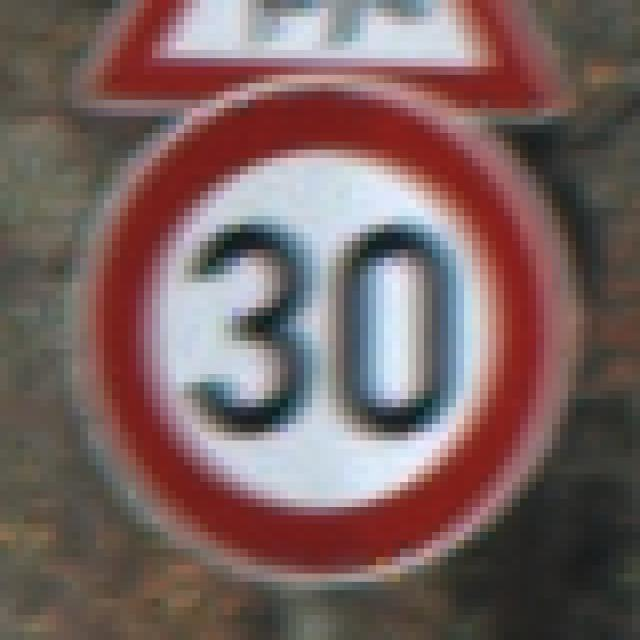Speed Limit -30-: (56, 45, 568, 578)
